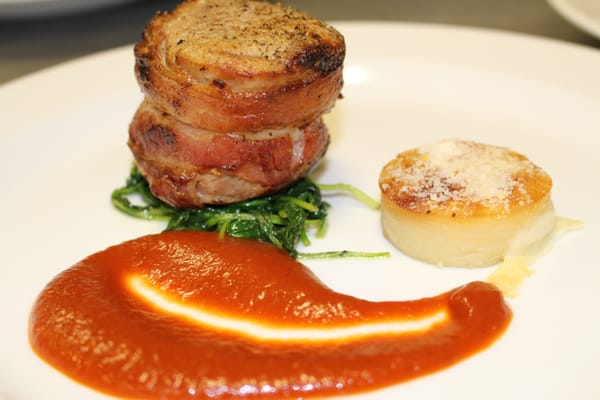soup: (120, 0, 347, 210), (378, 136, 556, 267)
